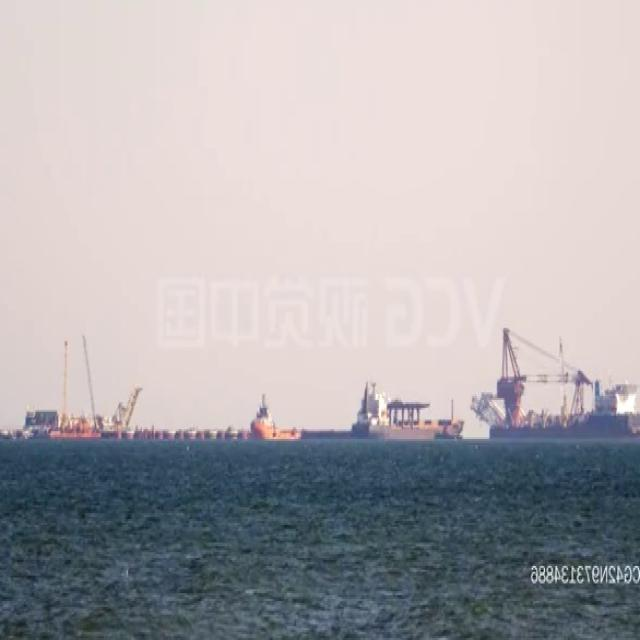cargoship: (482, 322, 640, 441), (351, 378, 464, 436), (246, 391, 306, 444)
